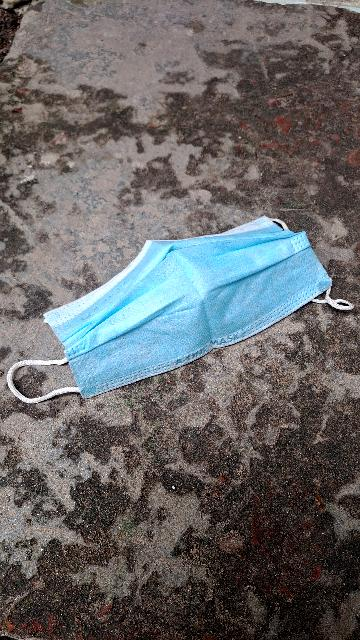mask: (0, 204, 360, 410)
